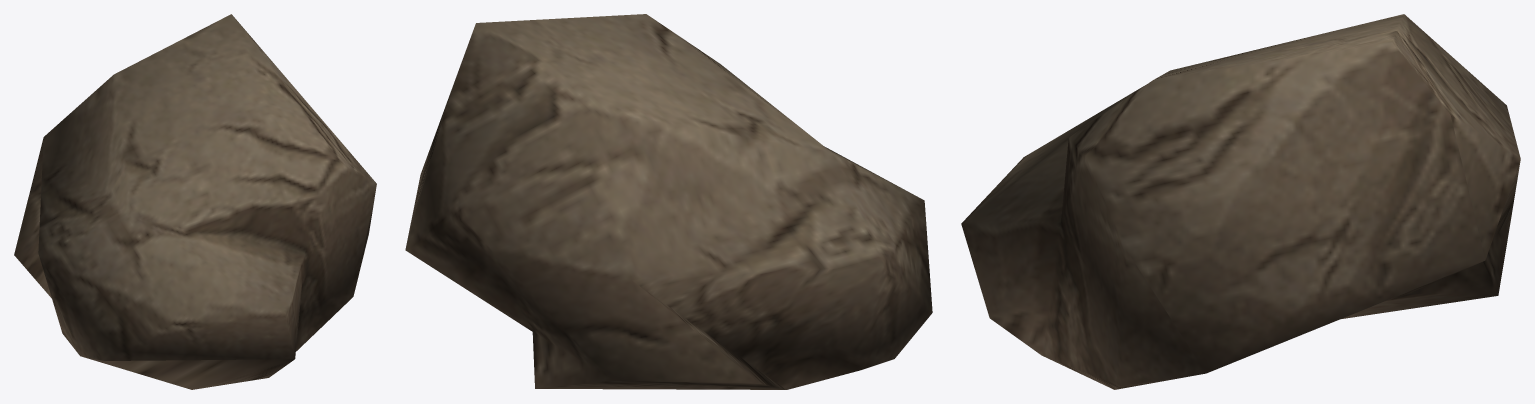
File: shitou04.FBX
3 views of the same model, side by side, from view 1: azimuth 30°, elevation 25°; view 2: azimuth 150°, elevation 25°; view 3: azimuth 270°, elevation 25° (orthographic). The views are drawn at different scales.
Visible parts, largest first — view 1: polySurface13; view 2: polySurface13; view 3: polySurface13.
Boxes of the visible parts, <box> form: polySurface13: <box>14,14,376,389</box>; polySurface13: <box>405,14,932,389</box>; polySurface13: <box>961,14,1520,389</box>.
Size of the model in its own units: 48.23 by 39.93 by 51.25.
